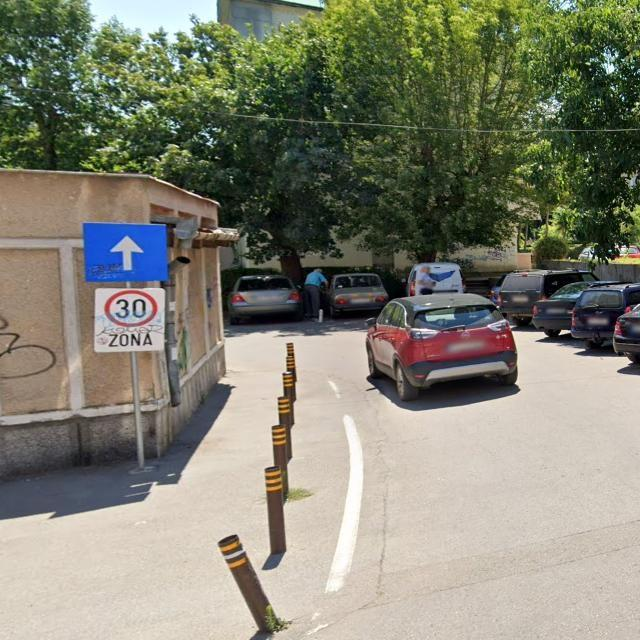forb_speed_over_30: (106, 290, 158, 327)
